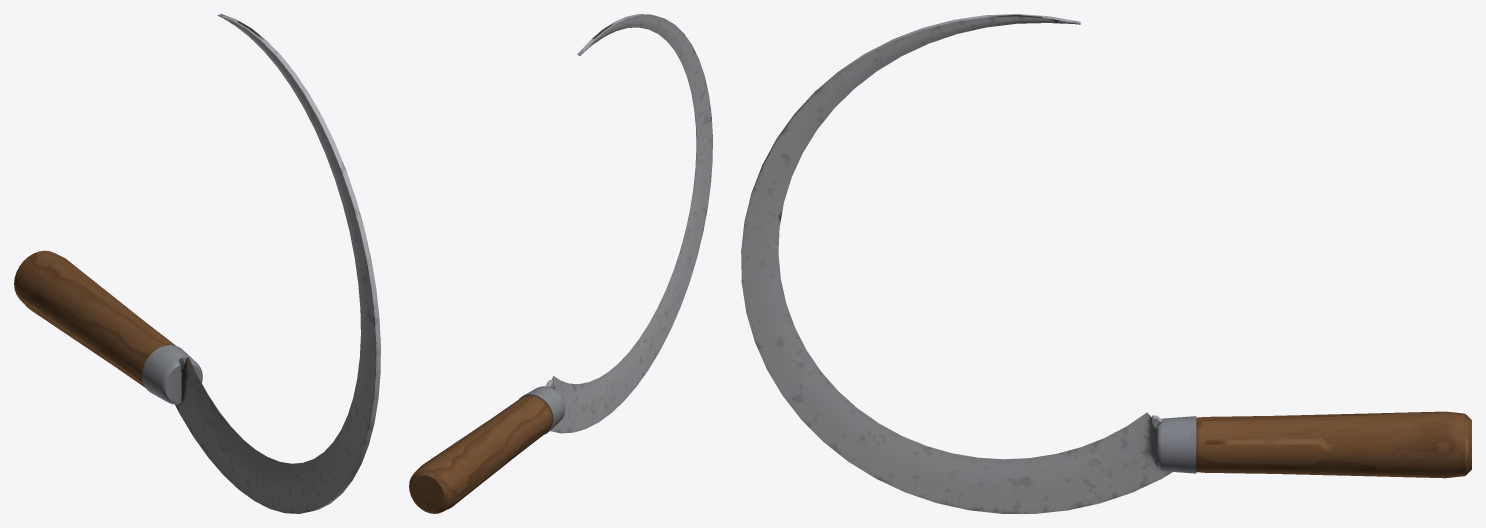
Rendered from melee_sickle.glb.
3 renders of one model, left to right at view 1: azimuth 30°, elevation 25°; view 2: azimuth 150°, elevation 25°; view 3: azimuth 270°, elevation 25°, orthographic. The views are drawn at different scales.
Parts seen in each view (by area): view 1: body; view 2: body; view 3: body.
Part boxes in pixels (bbox=[...]): body: bbox=[14, 14, 380, 513]; body: bbox=[409, 14, 712, 513]; body: bbox=[741, 14, 1471, 513].
Bounding box in the file's own units: 0.031 × 0.2552 × 0.3396.
Materials: 1 (1 with a texture image).
